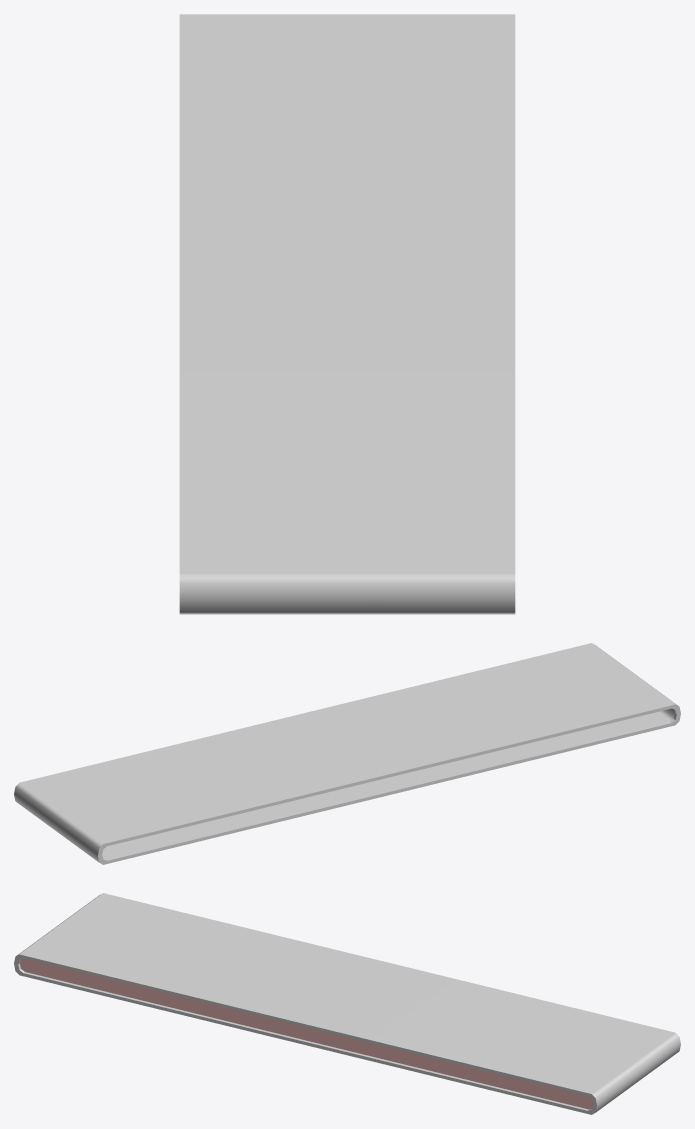
File: conveyerBelt.fbx
The picture shows the model from 3 angles, top to bottom: view 1: azimuth 30°, elevation 25°; view 2: azimuth 150°, elevation 25°; view 3: azimuth 270°, elevation 25°; orthographic projection. The views are drawn at different scales.
Visible parts, largest first — view 1: ConveyerBelt_Outer; view 2: ConveyerBelt_Outer; view 3: ConveyerBelt_Outer, ConveyerBelt_Inner.
Part boxes in pixels (x1,y1,x2,y2): ConveyerBelt_Outer: (179, 14, 515, 614); ConveyerBelt_Outer: (14, 643, 680, 864); ConveyerBelt_Outer: (14, 893, 680, 1114); ConveyerBelt_Inner: (20, 958, 592, 1109).
Size of the model in its own units: 128 by 6.11 by 177.
